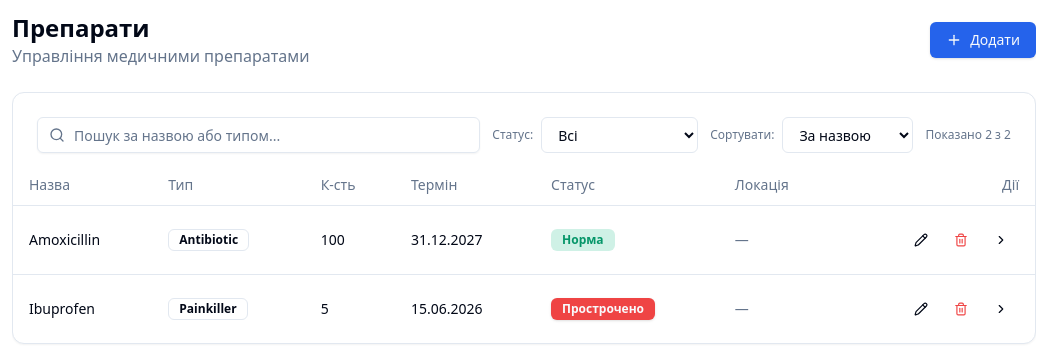
Test: MedicinesPage › should filter medicines by search query
Check: the text "Amoxicillin" is shown, box [13,205,152,274]
Type "Ibuprofen" into the field with placeholder "Пошук за назвою або типом..." at x=259, y=135, box [37,117,480,153]
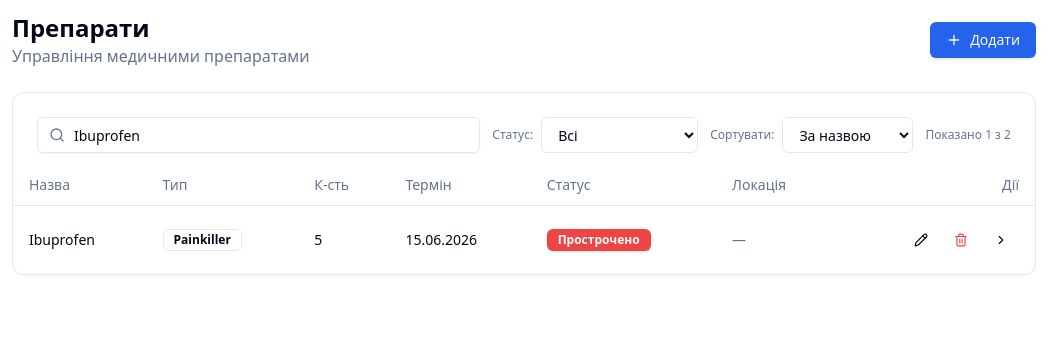
Check: the text "Ibuprofen" is shown, box [13,205,146,274]
Check: the text "Amoxicillin" is gone
